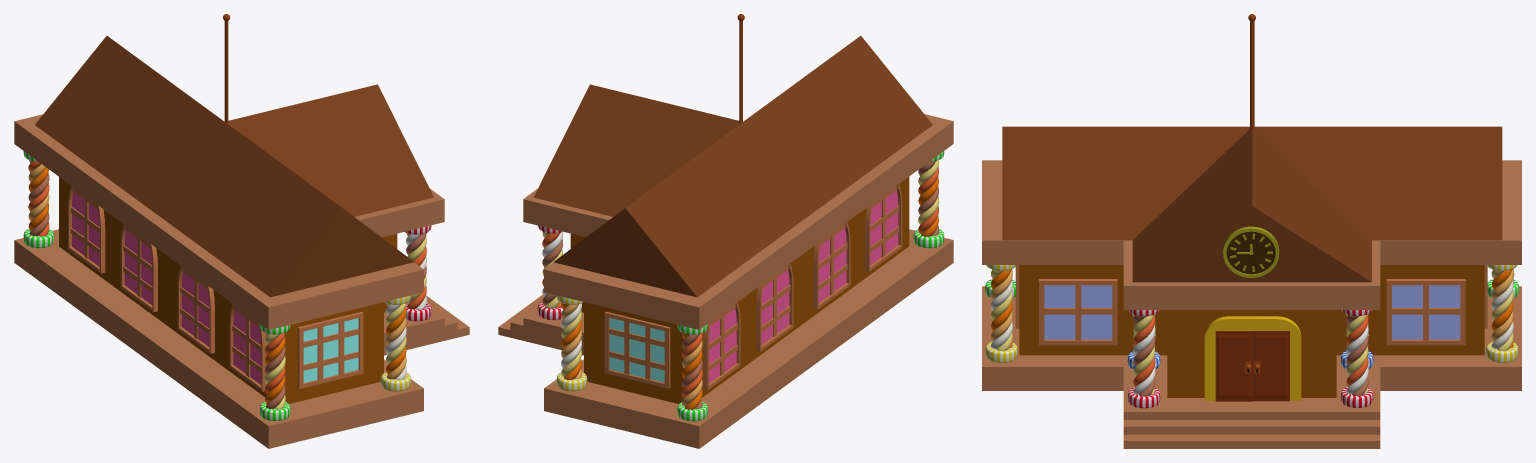
The model's file is PrefeituraPolida.fbx.
3 renders of one model, left to right at view 1: azimuth 30°, elevation 25°; view 2: azimuth 150°, elevation 25°; view 3: azimuth 270°, elevation 25°, orthographic. The views are drawn at different scales.
Parts seen in each view (by area): view 1: Portas; view 2: Portas; view 3: Portas.
Part boxes in pixels (box(x1,y1,x2,y2)): Portas: box(14, 14, 469, 448); Portas: box(498, 14, 953, 448); Portas: box(982, 14, 1521, 448).
Bounding box in the file's own units: 5620 × 6436 × 9250.
